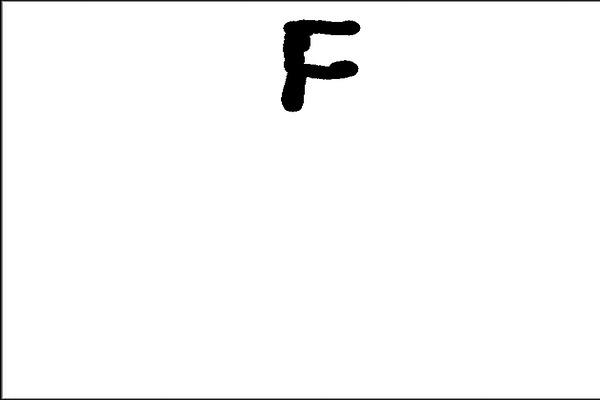F: (275, 14, 364, 116)
